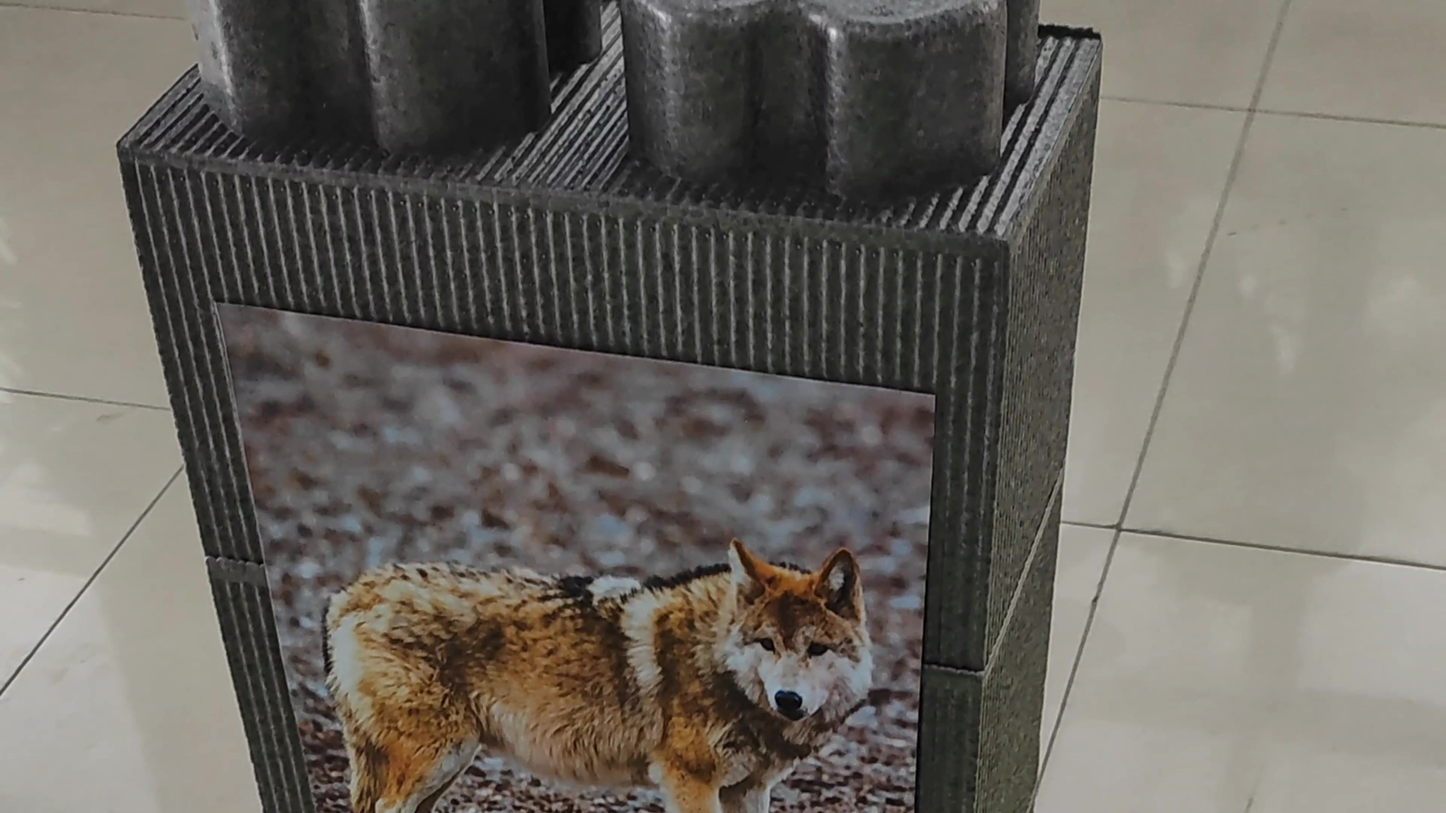wolf: (275, 451, 906, 813)
